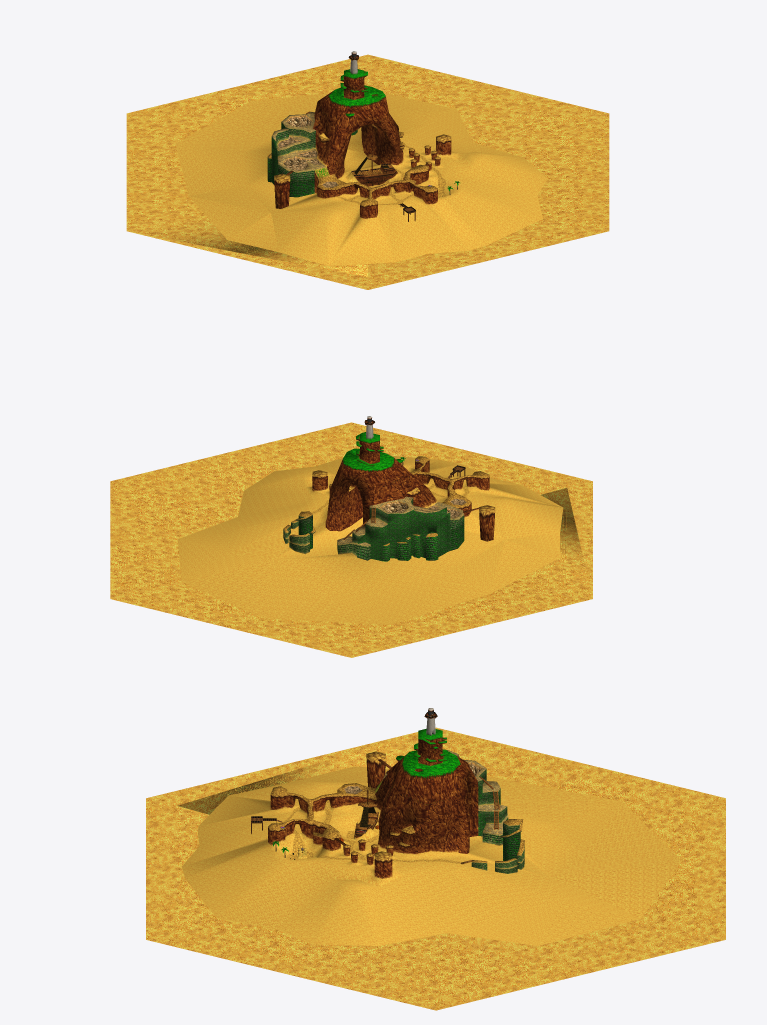
File: TTC.glb
3 renders of one model, top to bottom at view 1: azimuth 30°, elevation 25°; view 2: azimuth 150°, elevation 25°; view 3: azimuth 270°, elevation 25°, orthographic. The views are drawn at different scales.
Parts seen in each view (by area): view 1: instance_0.193, instance_0.002, instance_0.001, instance_0.421, instance_0, instance_0.187; view 2: instance_0.193, instance_0.002, instance_0.421, instance_0.001, instance_0.187; view 3: instance_0.002, instance_0.193, instance_0.001, instance_0.108, instance_0, instance_0.187, instance_0.029.
Boxes of the visible parts, box(x1,y1,x2,y2) form: instance_0.193: box(126, 54, 609, 289); instance_0.002: box(175, 93, 547, 265); instance_0.001: box(317, 164, 437, 205); instance_0.421: box(267, 122, 314, 197); instance_0: box(337, 140, 445, 205); instance_0.187: box(329, 85, 385, 105); instance_0.193: box(110, 422, 592, 657); instance_0.002: box(178, 455, 563, 624); instance_0.421: box(358, 507, 464, 561); instance_0.001: box(410, 456, 489, 507); instance_0.187: box(343, 448, 393, 469); instance_0.002: box(182, 766, 680, 945); instance_0.193: box(146, 727, 725, 1010); instance_0.001: box(268, 783, 376, 839); instance_0.108: box(397, 795, 446, 823); instance_0: box(279, 800, 463, 864); instance_0.187: box(403, 749, 459, 775); instance_0.029: box(452, 817, 470, 853).
Bounding box in the file's own units: 1616 × 393 × 1658.
89 materials, 85 textured.
